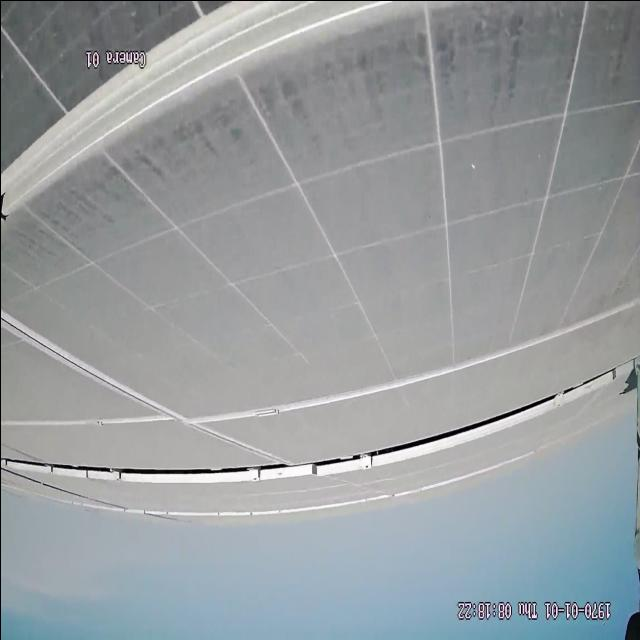interior panel: (3, 291, 640, 463), (1, 0, 392, 231)
